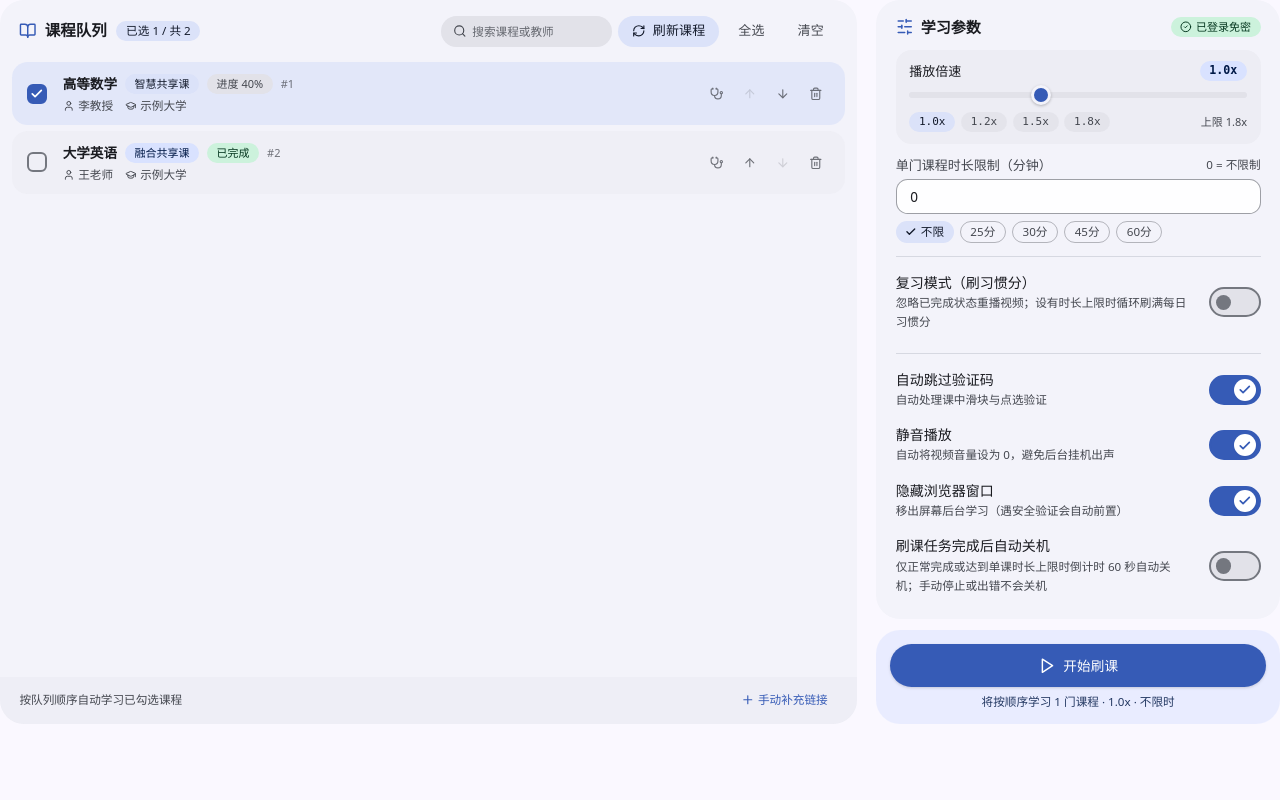
Test: WorkspaceView › filters courses, toggles selection, reorders, removes, and invokes checkCourse/startStudy
Later steps or results of the test are not shown.
Expected: the text "已选 1 / 共 2" is shown, [116,21,200,41]
Type "英语" into the search field labelled "搜索课程" at (527, 31), box [441,16,612,46]
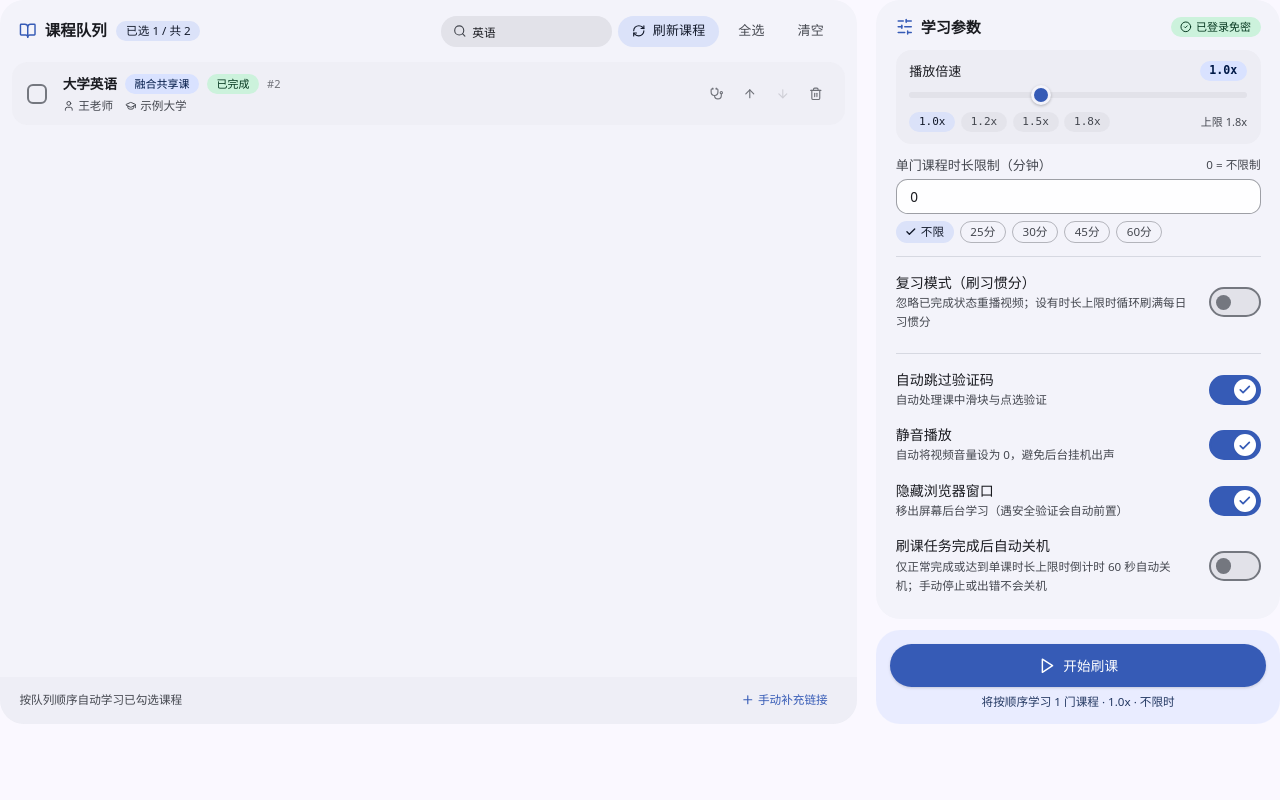
Expected: the button "大学英语" is shown, [63,74,117,94]
Expected: the button "高等数学" is gone
